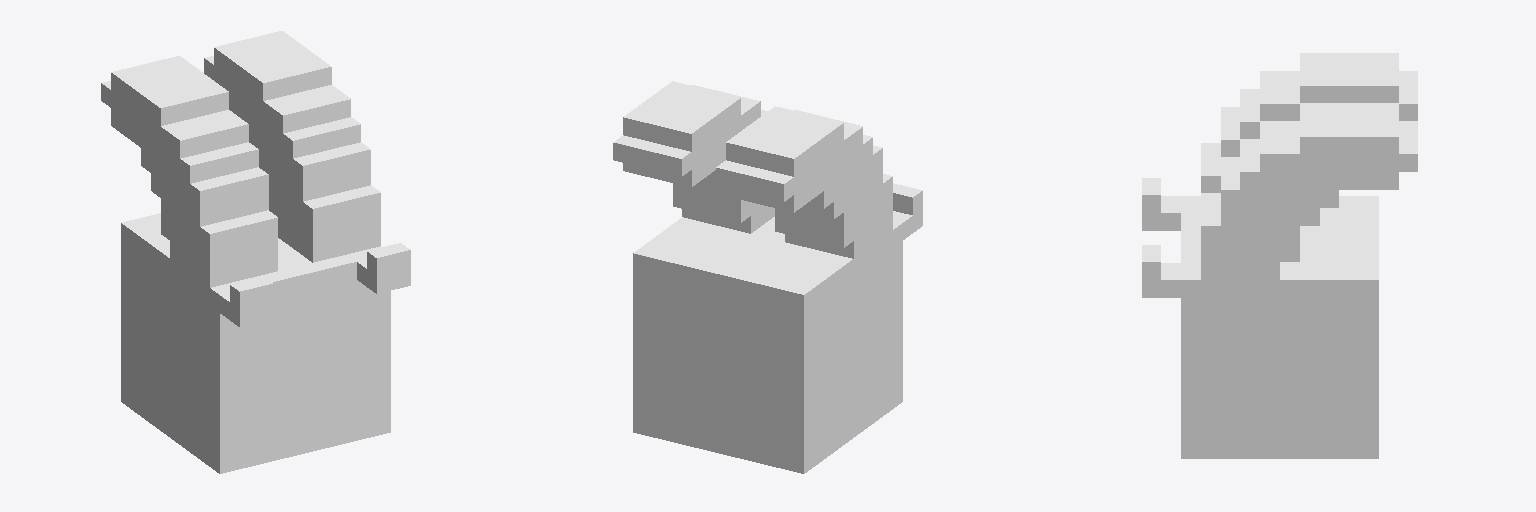
The model's file is HungerHead.obj.
The picture shows the model from 3 angles: view 1: azimuth 30°, elevation 25°; view 2: azimuth 150°, elevation 25°; view 3: azimuth 270°, elevation 25°; orthographic projection.
Visible parts, largest first — view 1: object 1; view 2: object 1; view 3: object 1.
Boxes of the visible parts, <box> form: object 1: <box>101,31,410,473</box>; object 1: <box>613,81,922,473</box>; object 1: <box>1142,53,1417,458</box>.
Bounding box in the file's own units: 1 × 1.8 × 1.4.